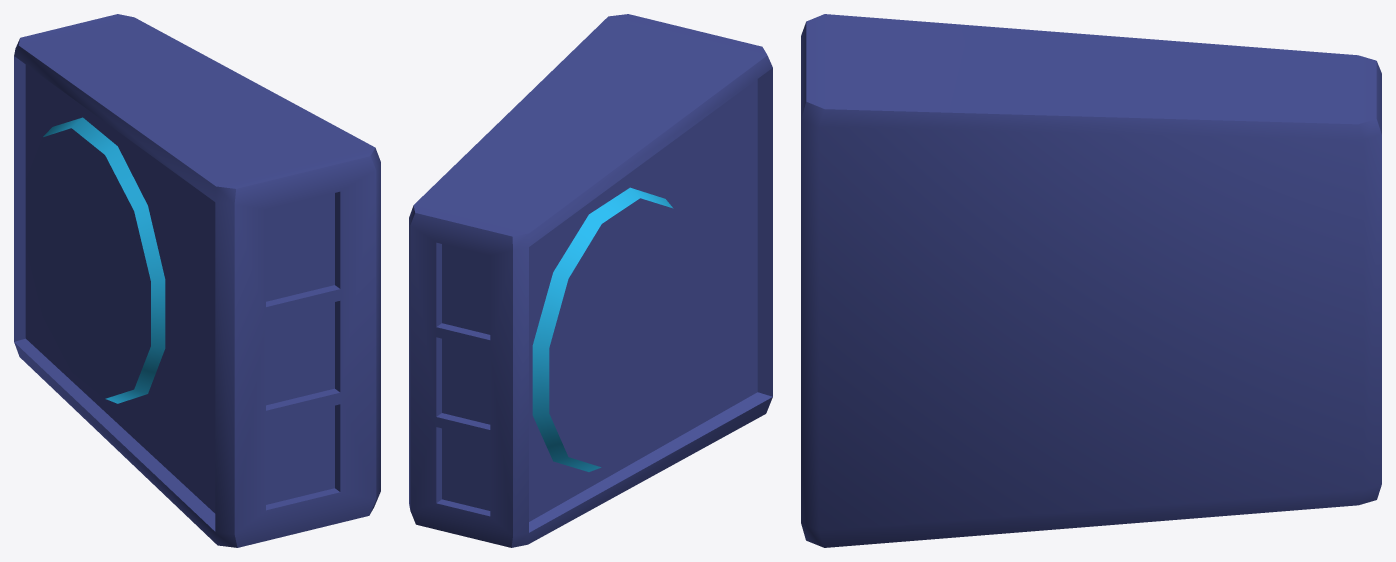
The model's file is SM_Vent_02.fbx.
3 renders of one model, left to right at view 1: azimuth 30°, elevation 25°; view 2: azimuth 150°, elevation 25°; view 3: azimuth 270°, elevation 25°, orthographic. The views are drawn at different scales.
Parts seen in each view (by area): view 1: SM_Vent_02; view 2: SM_Vent_02; view 3: SM_Vent_02.
Boxes of the visible parts, <box> form: SM_Vent_02: <box>14,14,380,547</box>; SM_Vent_02: <box>409,14,772,547</box>; SM_Vent_02: <box>801,14,1381,547</box>.
Size of the model in its own units: 113 by 233 by 279.
